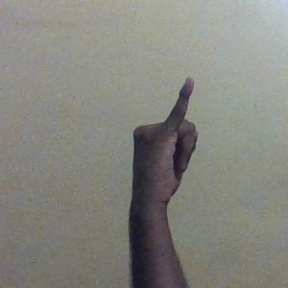I: (129, 76, 205, 204)
